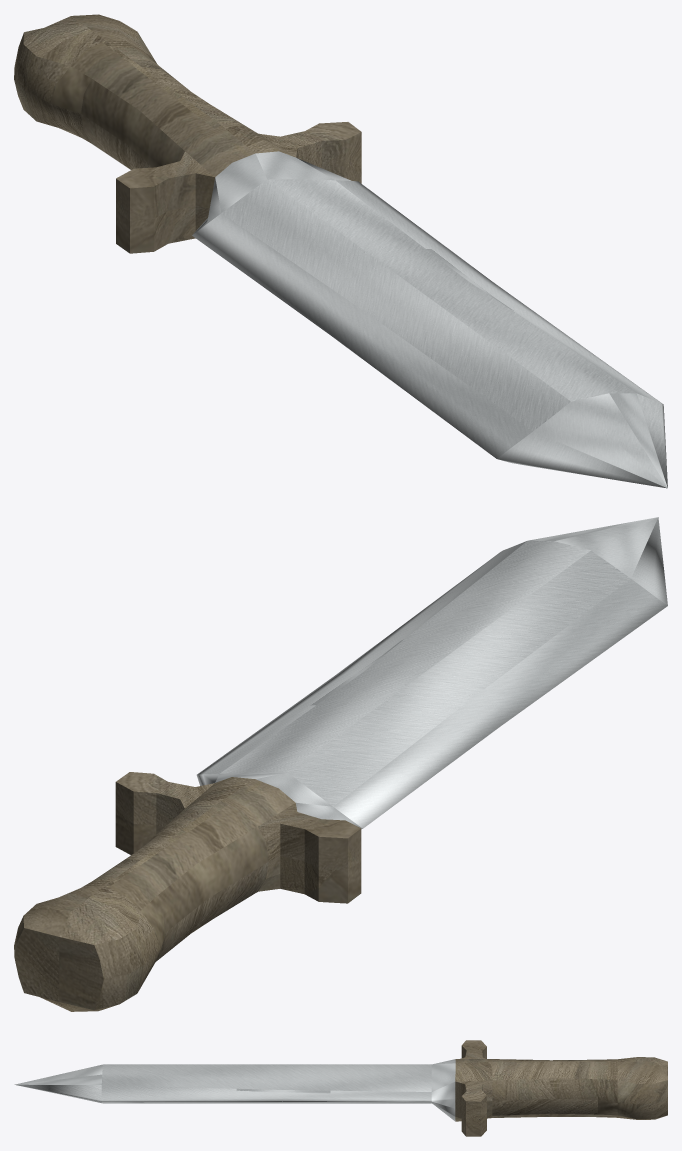
The model's file is espada2.obj.
The picture shows the model from 3 angles, top to bottom: view 1: azimuth 30°, elevation 25°; view 2: azimuth 150°, elevation 25°; view 3: azimuth 270°, elevation 25°; orthographic projection. The views are drawn at different scales.
Visible parts, largest first — view 1: espada2; view 2: espada2; view 3: espada2.
Boxes of the visible parts, left/top/right/bottom form: espada2: left=14, top=14, right=667, bottom=488; espada2: left=14, top=517, right=667, bottom=1011; espada2: left=14, top=1040, right=667, bottom=1136.
Size of the model in its own units: 28.15 by 11.71 by 127.
